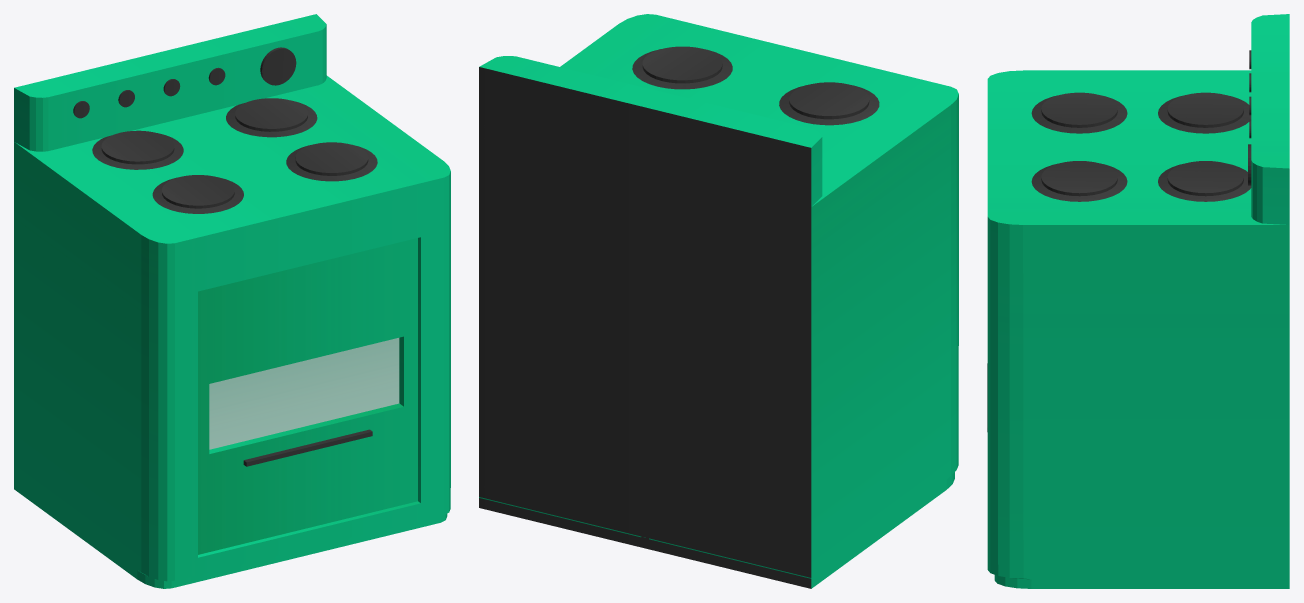
The model's file is Stove con UV.fbx.
3 renders of one model, left to right at view 1: azimuth 30°, elevation 25°; view 2: azimuth 150°, elevation 25°; view 3: azimuth 270°, elevation 25°, orthographic. The views are drawn at different scales.
Visible parts, largest first — view 1: Kitchen table.001; view 2: Kitchen table.001; view 3: Kitchen table.001.
Boxes of the visible parts, x1=… form: Kitchen table.001: x1=14, y1=14, x2=450, y2=588; Kitchen table.001: x1=479, y1=14, x2=958, y2=588; Kitchen table.001: x1=987, y1=14, x2=1289, y2=588.
Size of the model in its own units: 394 by 500 by 326.
